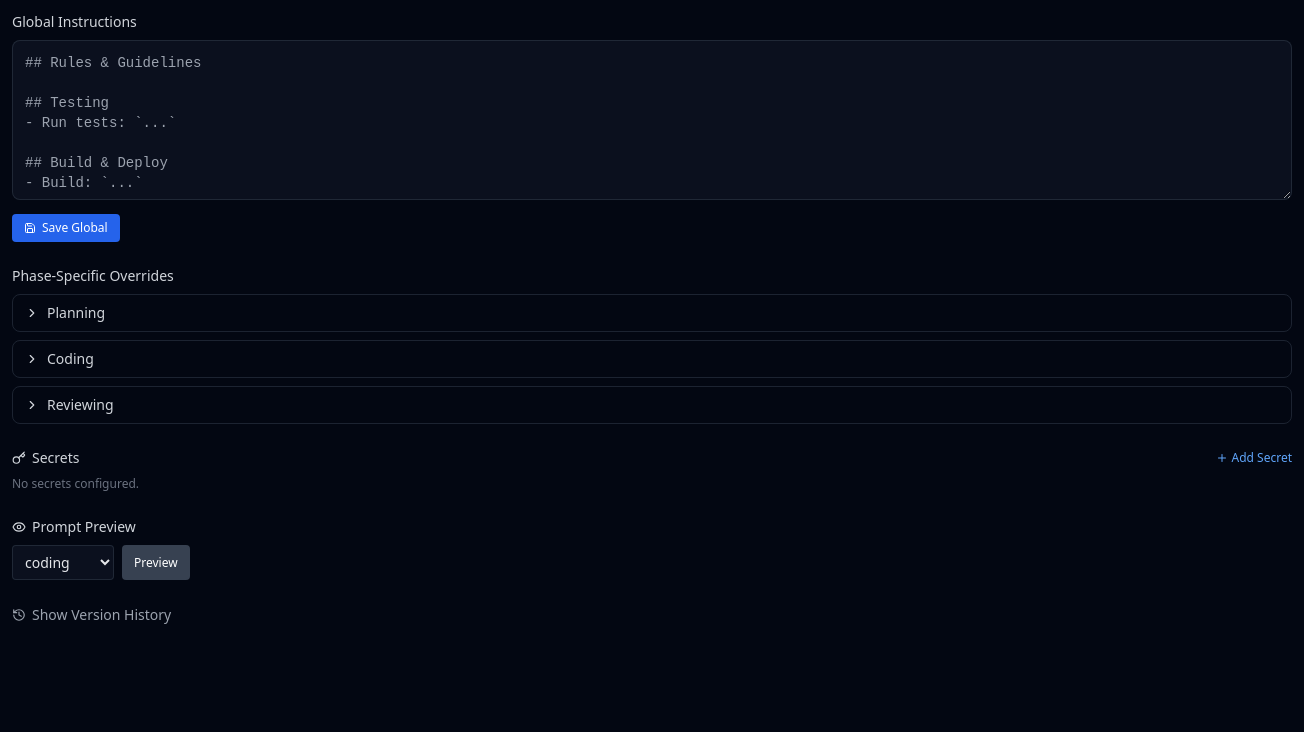
it: ProjectInstructionsTab › loads prompt preview
The width and height of the screenshot is (1304, 732).
Click the button "Preview": (156, 562) [122,545,190,580]
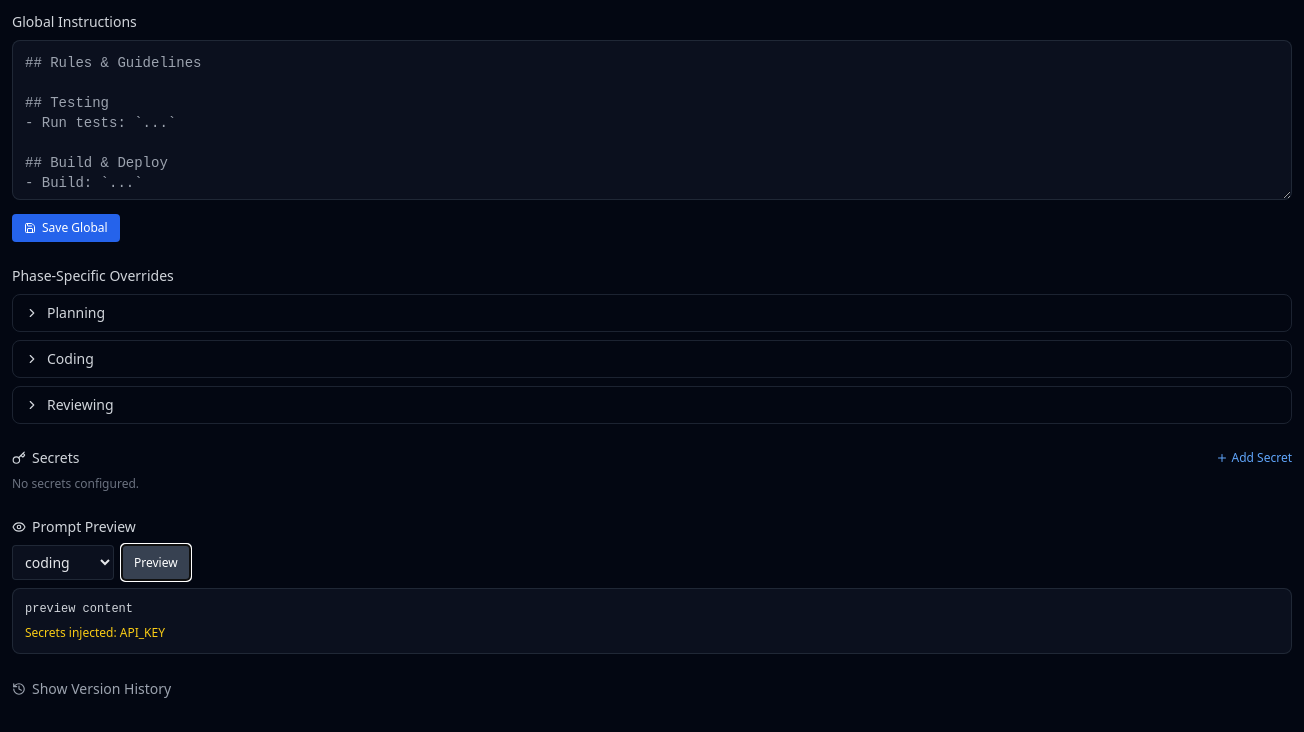
Now the text "preview content" is shown, box [25,602,133,616]
Now the text "Secrets injected: API_KEY" is shown, box [25,624,165,641]
